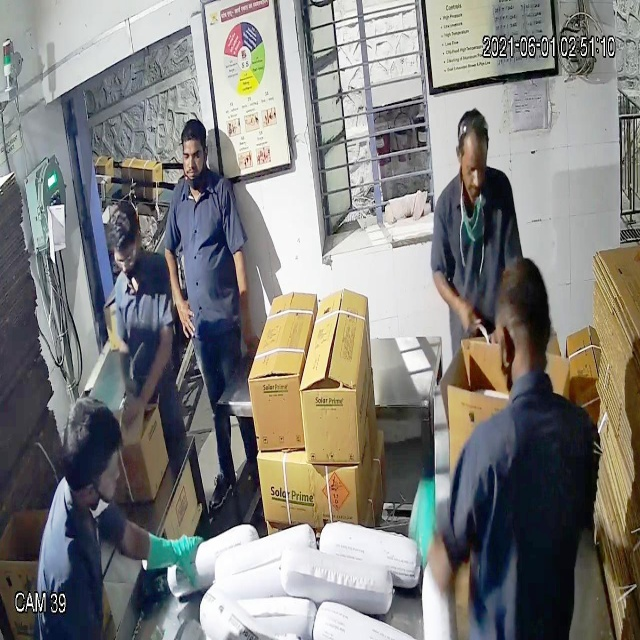Gafas: (111, 243, 143, 278)
Sin_gafas: (454, 143, 490, 187)
